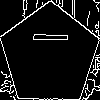I: (25, 30, 68, 45)
